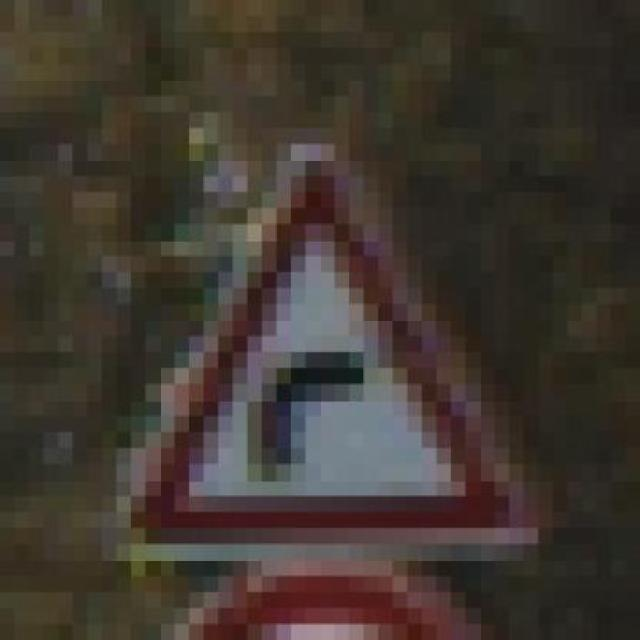Dangerous Rright Curve Ahead: (87, 128, 567, 560)
